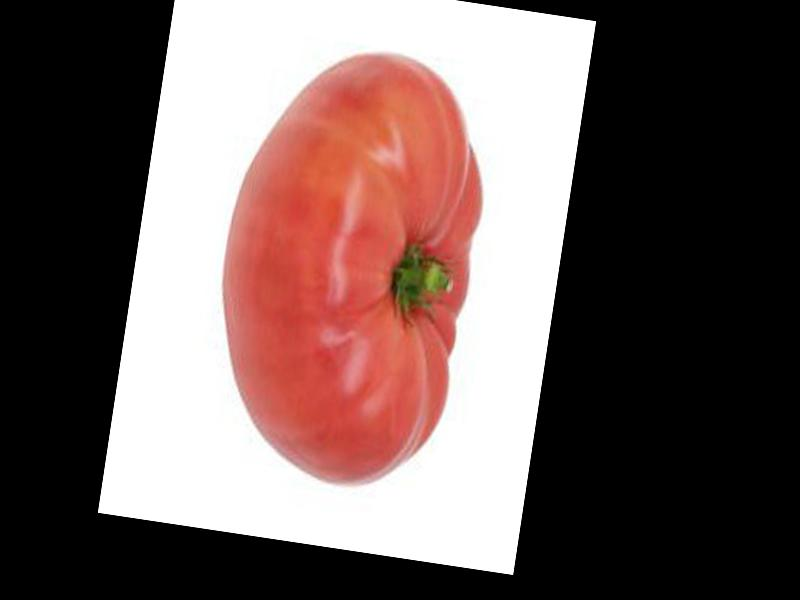Tomato: (196, 34, 496, 496)
